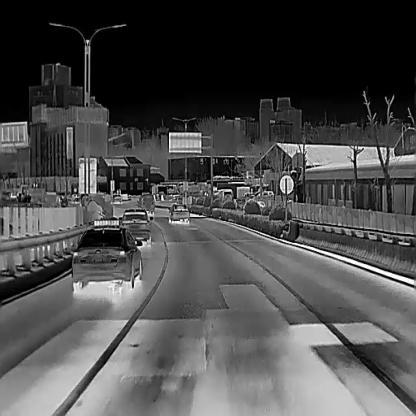car: (71, 220, 143, 293), (120, 207, 153, 246), (167, 203, 190, 225), (138, 193, 154, 213), (112, 192, 121, 204)
